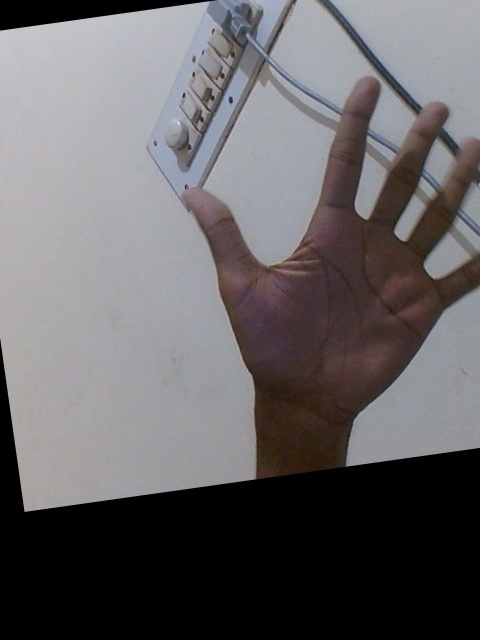hand: (174, 75, 480, 433)
